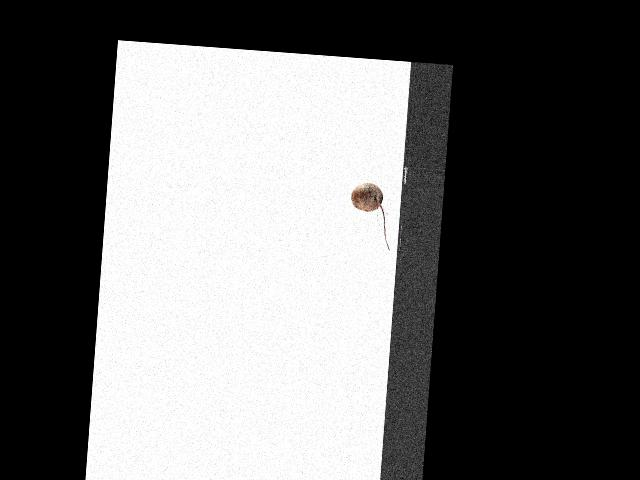beet: (347, 182, 394, 250)
